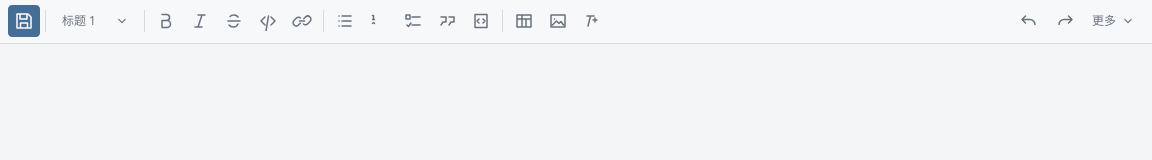
Test: FormatToolbar tri-state projection › opens one paragraph-style menu from the live state and executes the selected choice
Click the button with aria-label "段落样式". click: x=95, y=21
box: left=51, top=5, right=139, bottom=37
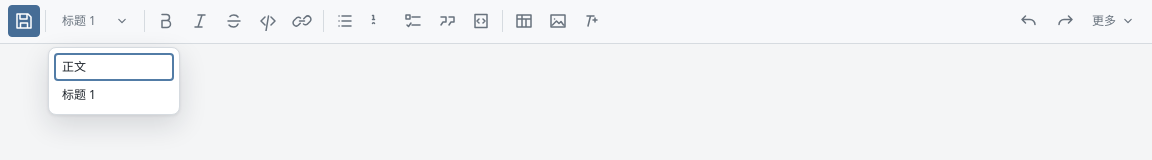
Click the menu item "正文". click: x=114, y=67
box: left=54, top=53, right=174, bottom=81
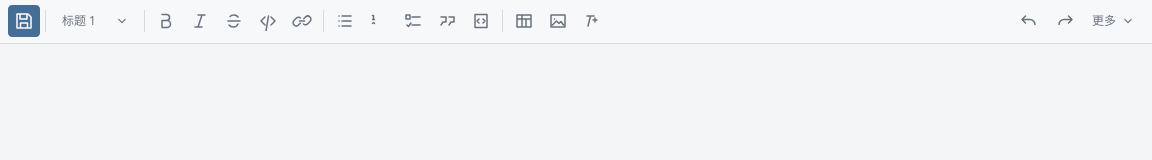
Result: the menu "正文 标题 1" is gone
